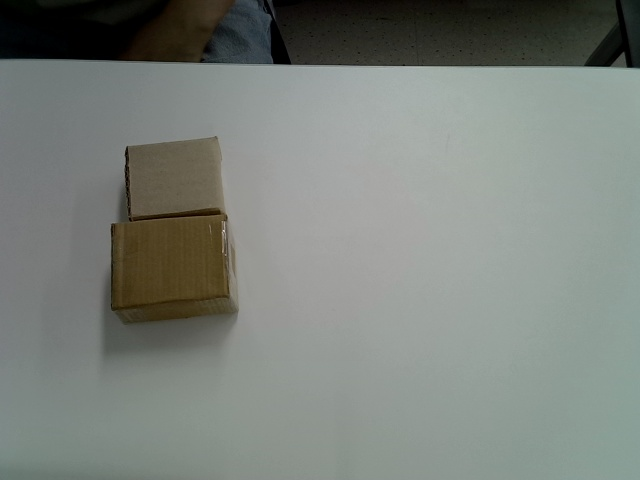normal: (111, 214, 238, 326), (123, 136, 229, 220)
